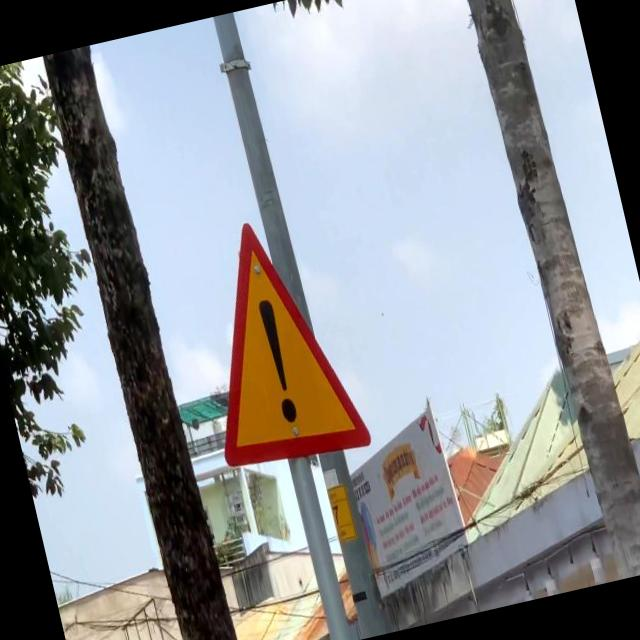W-233: (173, 204, 373, 476)
